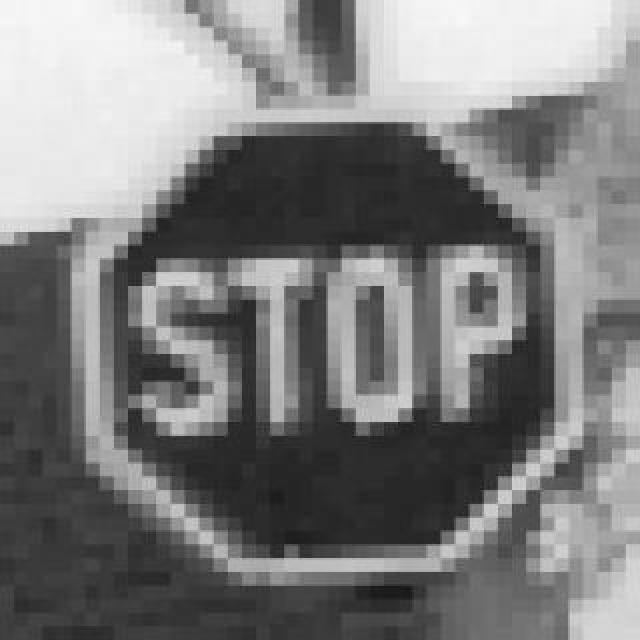stop: (74, 94, 586, 584)
